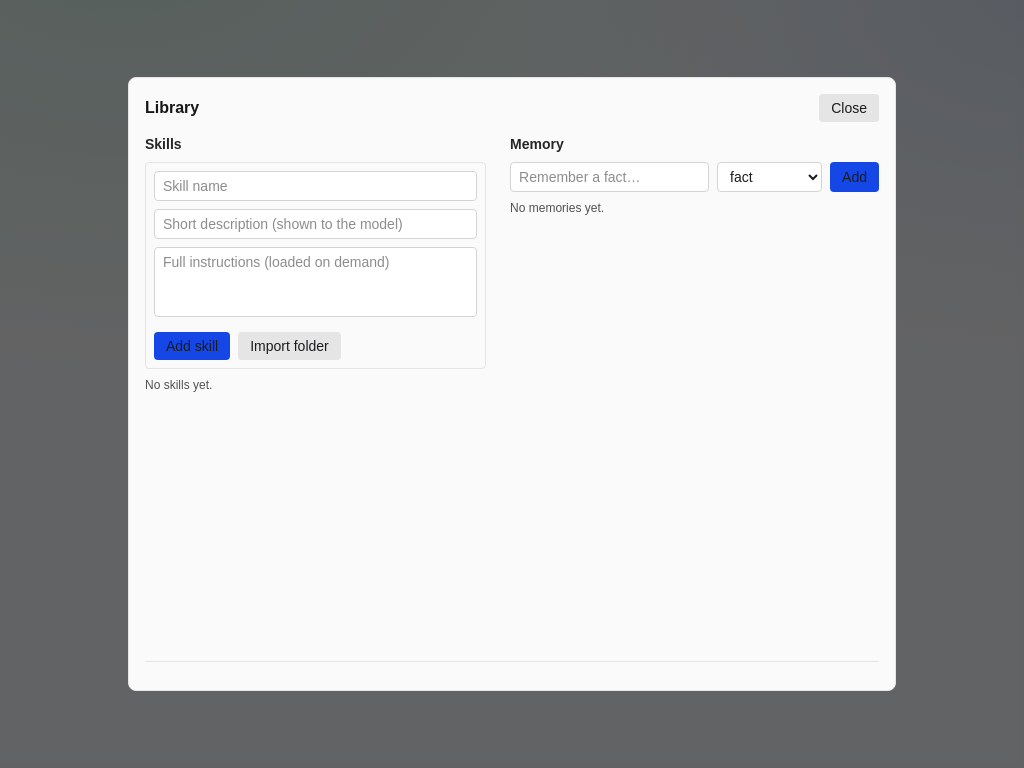
it: LibraryPanel — Skills › imports a skill folder and reports review status
The image size is (1024, 768).
Expected: the text "No skills yet." is shown, [145,378,212,392]
Click the button "Import folder". click: (289, 346)
box: [238,332,341,360]
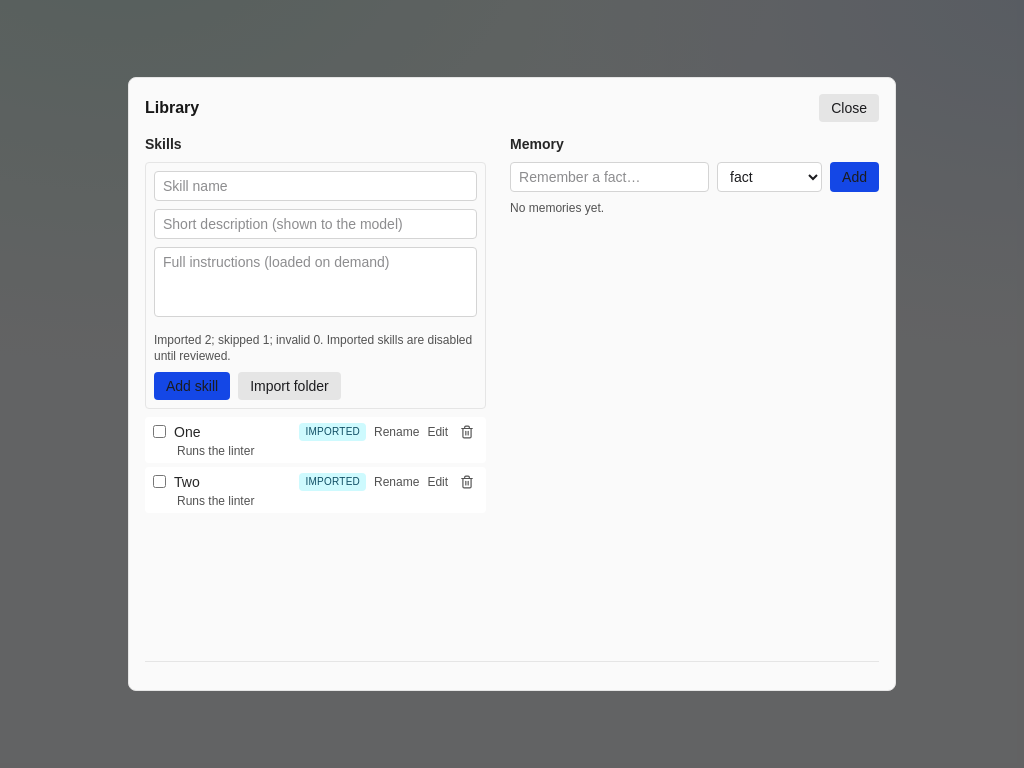
Now the text "disabled until reviewed" is shown, box [154,333,472,363]
Now the text "imported" is shown 2 times, box [299,423,366,441]; [299,473,366,491]
